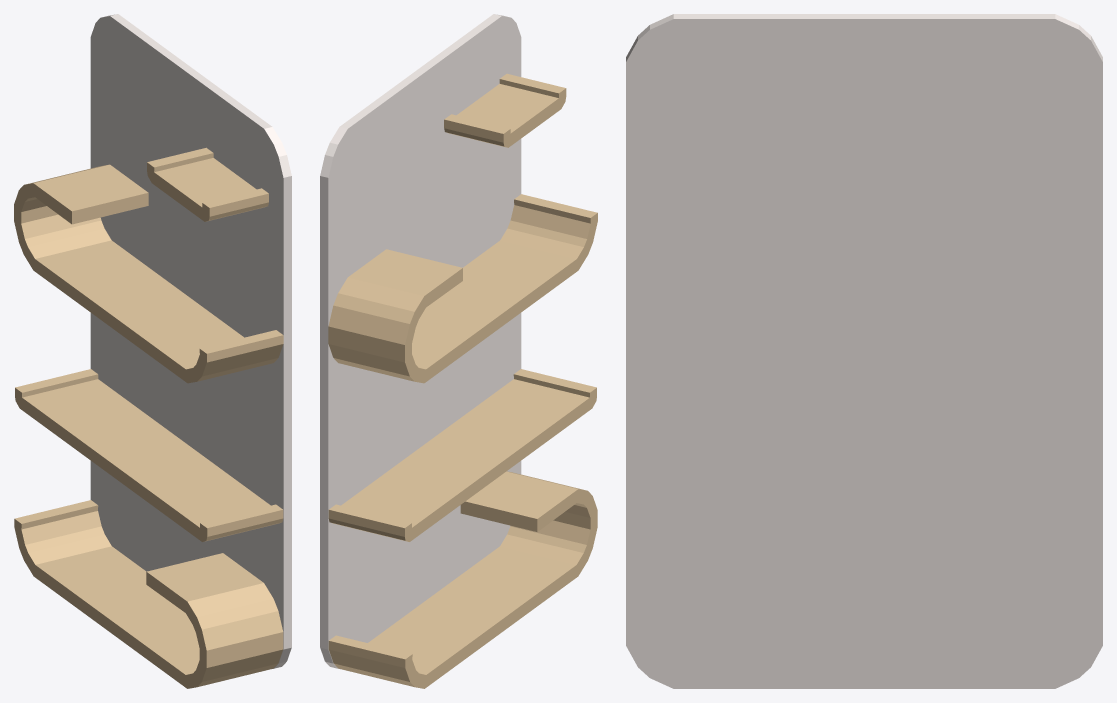
File: Furn6_bookcase_right_color1_joined.fbx
3 renders of one model, left to right at view 1: azimuth 30°, elevation 25°; view 2: azimuth 150°, elevation 25°; view 3: azimuth 270°, elevation 25°, orthographic. The views are drawn at different scales.
Visible parts, largest first — view 1: полочки; view 2: полочки; view 3: полочки.
Part boxes in pixels (x1=…): полочки: x1=14, y1=14, x2=291, y2=688; полочки: x1=320, y1=14, x2=597, y2=688; полочки: x1=626, y1=14, x2=1102, y2=688.
Size of the model in its own units: 37.66 by 229 by 148.
